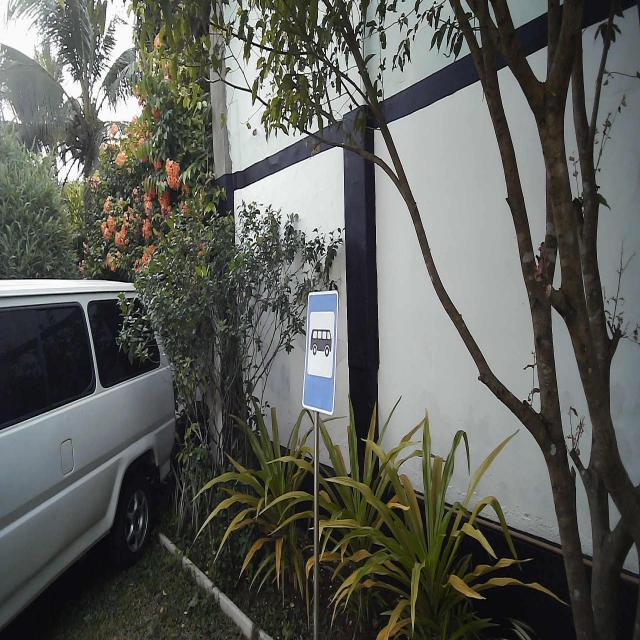bus_stop: (300, 288, 340, 418)
